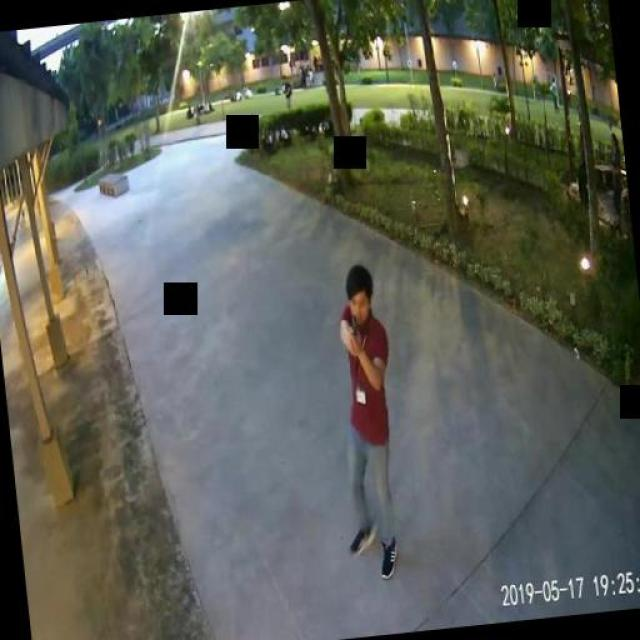gun: (344, 312, 366, 352)
